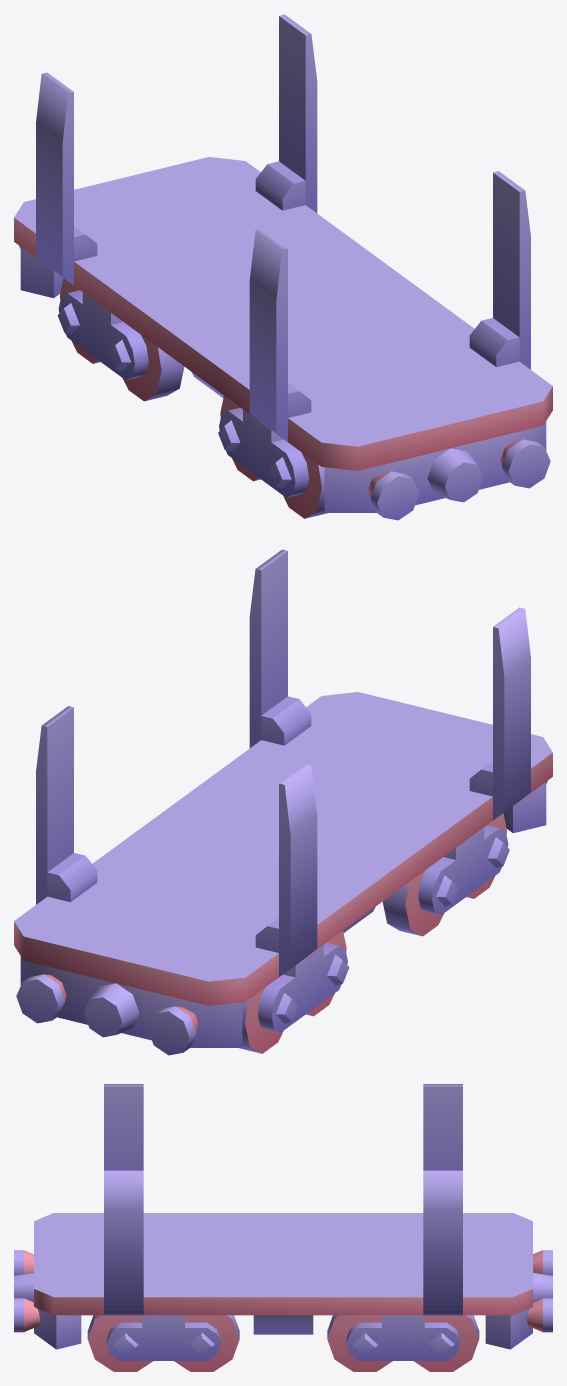
File: tr-flatbed.glb
3 views of the same model, one above another, from view 1: azimuth 30°, elevation 25°; view 2: azimuth 150°, elevation 25°; view 3: azimuth 270°, elevation 25° (orthographic). The views are drawn at different scales.
Parts seen in each view (by area): view 1: train-carriage-flatbed; view 2: train-carriage-flatbed; view 3: train-carriage-flatbed.
Boxes of the visible parts, x1,y1,x2,y2 form: train-carriage-flatbed: [14, 14, 552, 520]; train-carriage-flatbed: [14, 549, 552, 1055]; train-carriage-flatbed: [14, 1084, 552, 1371].
Bounding box in the file's own units: 1.1 × 1.16 × 2.7.
Materials: 1 (1 with a texture image).
